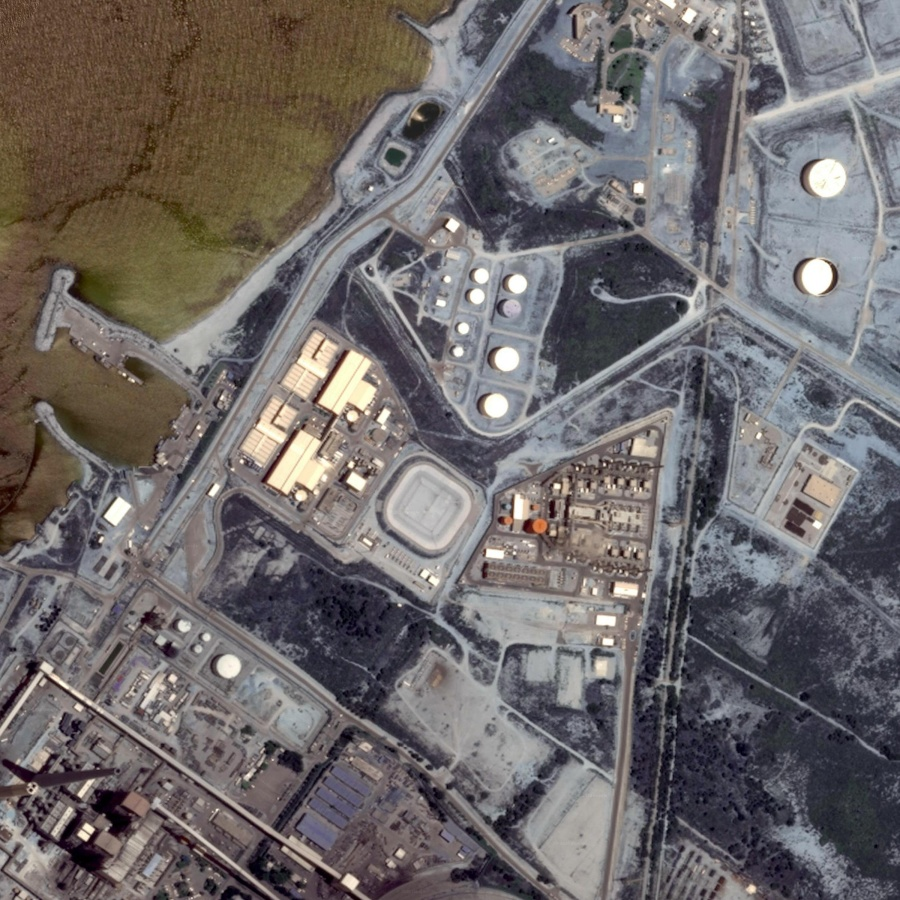PowerPlant: (368, 217, 600, 430)
